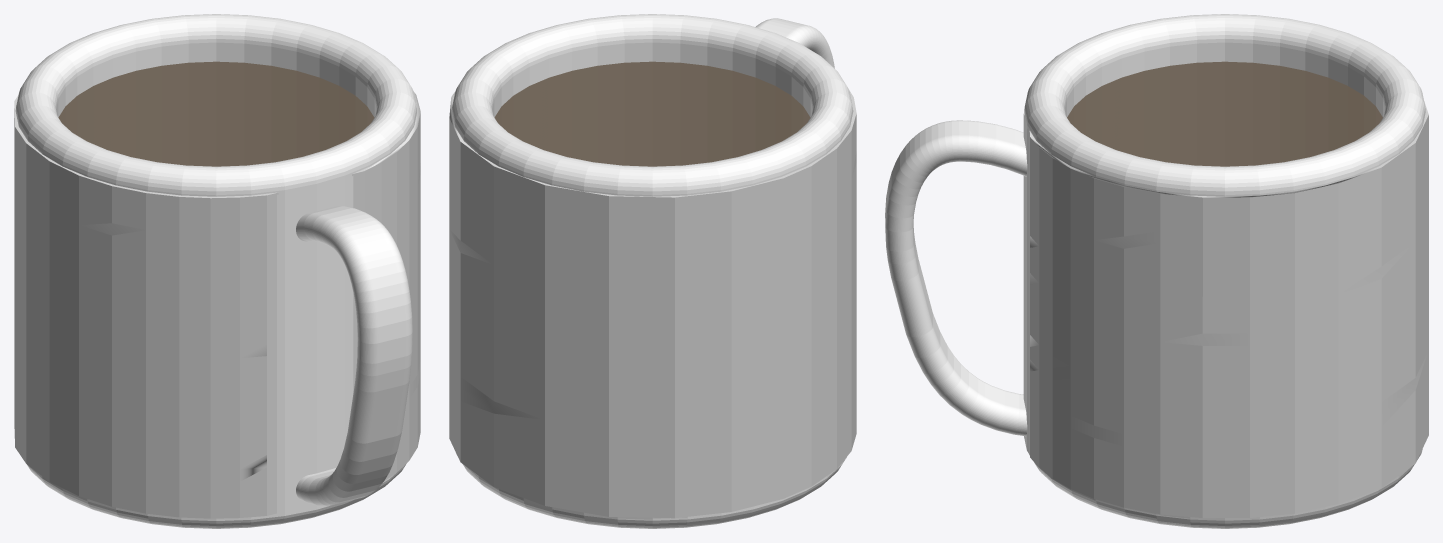
File: mockup-caneca.glb
3 views of the same model, side by side, from view 1: azimuth 30°, elevation 25°; view 2: azimuth 150°, elevation 25°; view 3: azimuth 270°, elevation 25° (orthographic).
Visible parts, largest first — view 1: Arte, Corpo, Liquido, Esqueleto, Apoio; view 2: Arte, Corpo, Liquido, Apoio, Esqueleto; view 3: Arte, Corpo, Liquido, Apoio, Esqueleto.
Part boxes in pixels (left/top/right/bottom): Arte: left=14, top=91, right=420, bottom=518; Corpo: left=15, top=14, right=416, bottom=528; Liquido: left=58, top=61, right=374, bottom=166; Esqueleto: left=28, top=176, right=404, bottom=520; Apoio: left=296, top=206, right=412, bottom=505; Arte: left=449, top=90, right=856, bottom=518; Corpo: left=451, top=14, right=853, bottom=528; Liquido: left=494, top=61, right=810, bottom=166; Apoio: left=755, top=18, right=834, bottom=68; Esqueleto: left=618, top=458, right=845, bottom=520; Arte: left=1029, top=102, right=1428, bottom=518; Corpo: left=1024, top=14, right=1425, bottom=528; Liquido: left=1067, top=61, right=1382, bottom=166; Apoio: left=885, top=120, right=1027, bottom=436; Esqueleto: left=1023, top=114, right=1189, bottom=519.
Size of the model in its own units: 110 by 107 by 148.
